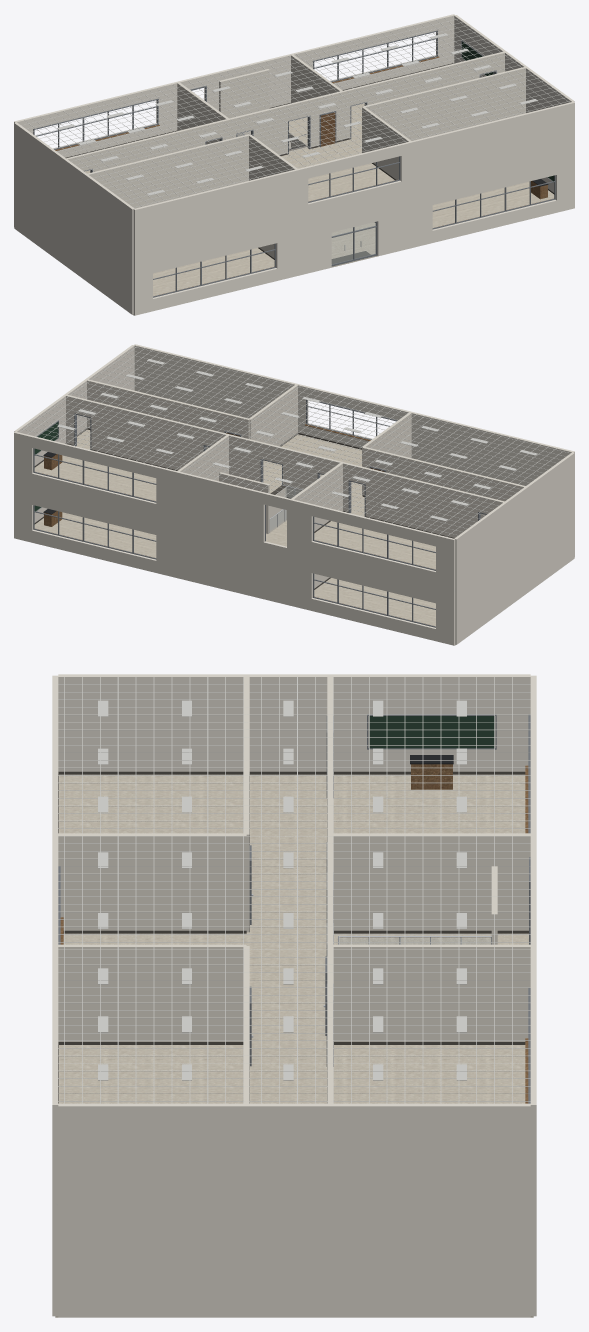
Rendered from putong_interior.glb.
3 renders of one model, top to bottom at view 1: azimuth 30°, elevation 25°; view 2: azimuth 150°, elevation 25°; view 3: azimuth 270°, elevation 25°, orthographic. The views are drawn at different scales.
Visible parts, largest first — view 1: L1_part, L1_WALL_S_wall, L1_WALL_ceil_tbar, L0_WALL_S_wall, L1_WALL_N_wall, L0_WALL_W_wall, L1_WALL_W_wall, L0_floor, L1_floor, L1_WALL_E_wall, L0_WALL_S_frame, L1_WALL_N_frame (+4 smaller); view 2: L1_part, L0_WALL_N_wall, L1_WALL_ceil_tbar, L1_WALL_N_wall, L1_WALL_S_wall, L1_floor, L0_WALL_W_wall, L1_WALL_W_wall, L0_floor, L1_WALL_E_wall, L1_WALL_N_frame, L0_WALL_N_frame (+3 smaller); view 3: L1_part, L1_floor, L0_WALL_E_wall, L1_WALL_ceil_tbar, L1_WALL_E_wall, L1_WALL_W_wall, L1_board, L1_WALL_N_wall, L1_WALL_S_wall, L1_base, L1_frame, L1_WALL_W_base (+4 smaller).
Boxes of the visible parts, x1,y1,x2,y2 form: L1_part: [66, 51, 525, 208]; L1_WALL_S_wall: [133, 101, 574, 258]; L1_WALL_ceil_tbar: [21, 16, 570, 207]; L0_WALL_S_wall: [133, 151, 574, 315]; L1_WALL_N_wall: [14, 14, 454, 169]; L0_WALL_W_wall: [14, 172, 133, 314]; L1_WALL_W_wall: [14, 122, 134, 257]; L0_floor: [133, 181, 554, 315]; L1_floor: [84, 103, 394, 201]; L1_WALL_E_wall: [454, 15, 574, 112]; L0_WALL_S_frame: [153, 175, 555, 297]; L1_WALL_N_frame: [33, 30, 438, 149]; L1_part: [66, 379, 525, 537]; L0_WALL_N_wall: [14, 481, 455, 645]; L1_WALL_ceil_tbar: [19, 346, 570, 536]; L1_WALL_N_wall: [14, 431, 455, 588]; L1_WALL_S_wall: [134, 344, 574, 499]; L1_floor: [34, 429, 435, 569]; L0_WALL_W_wall: [455, 502, 574, 644]; L1_WALL_W_wall: [454, 452, 574, 587]; L0_floor: [34, 512, 455, 645]; L1_WALL_E_wall: [14, 345, 134, 465]; L1_WALL_N_frame: [33, 448, 435, 570]; L0_WALL_N_frame: [33, 505, 435, 627]; L1_part: [58, 677, 530, 1103]; L1_floor: [59, 774, 528, 1103]; L0_WALL_E_wall: [58, 1203, 530, 1317]; L1_WALL_ceil_tbar: [58, 677, 530, 1103]; L1_WALL_E_wall: [58, 1103, 530, 1203]; L1_WALL_W_wall: [58, 674, 530, 771]; L1_board: [369, 716, 494, 748]; L1_WALL_N_wall: [530, 675, 536, 1202]; L1_WALL_S_wall: [52, 675, 58, 1202]; L1_base: [59, 772, 528, 1103]; L1_frame: [249, 714, 496, 1066]; L1_WALL_W_base: [59, 771, 525, 774].
Size of the model in its own units: 34.2 by 7.85 by 16.2.
19 materials, 5 textured.
